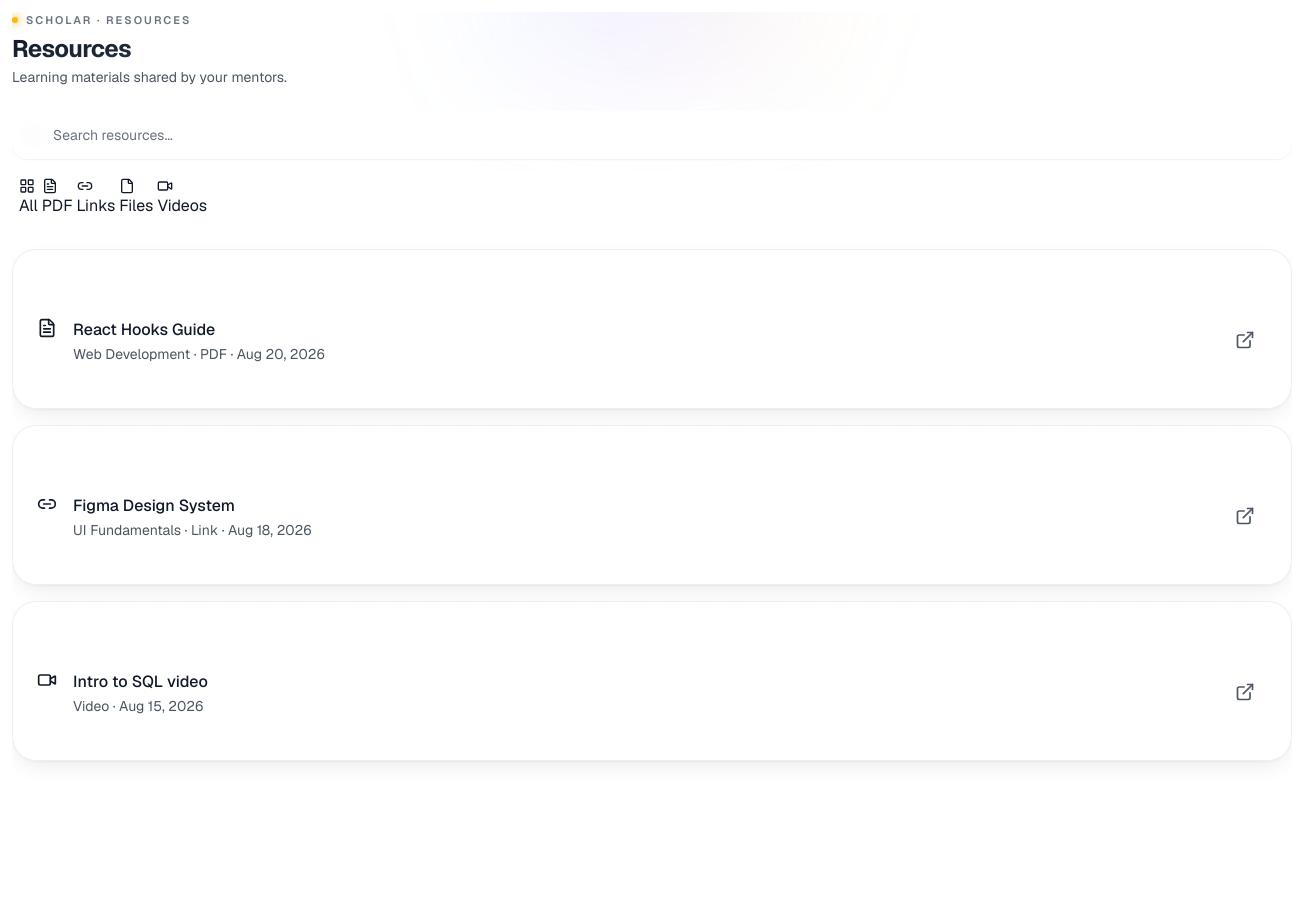
Test: ResourcesView › filters by search term
The image size is (1304, 912).
Type "react" into the search field labelled "Search resources". click: (652, 134)
box: [12,110,1292,158]
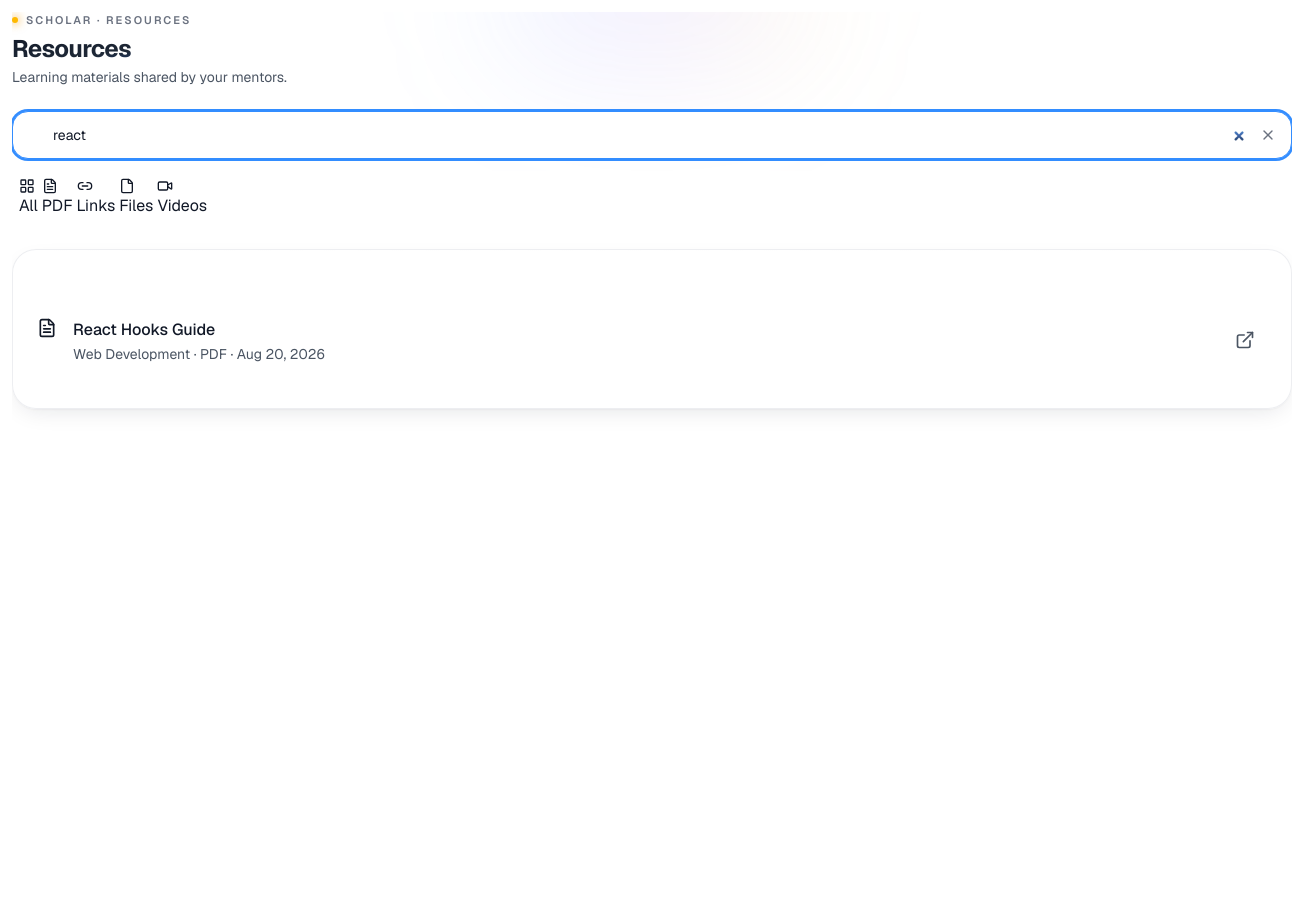
expect the text "React Hooks Guide" is shown: met, box [73,318,215,342]
expect the text "Figma Design System" is gone: met
